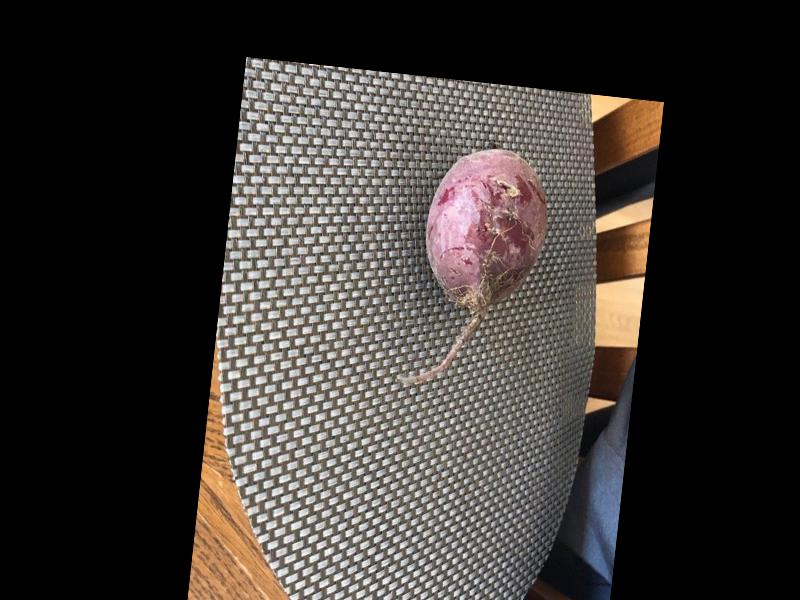Beet: (396, 143, 555, 397)
